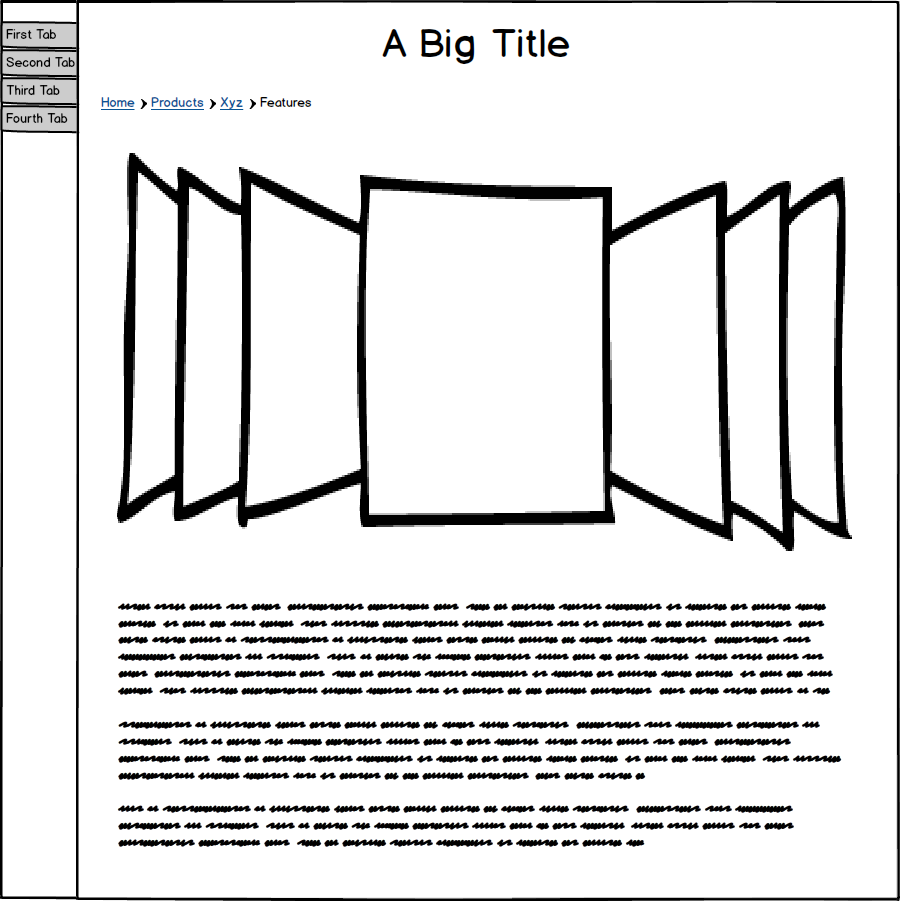h1: (370, 16, 583, 72), (89, 87, 320, 118)
p: (109, 590, 855, 856)
sidebar: (4, 13, 82, 137)
slideshow: (113, 144, 868, 561)
